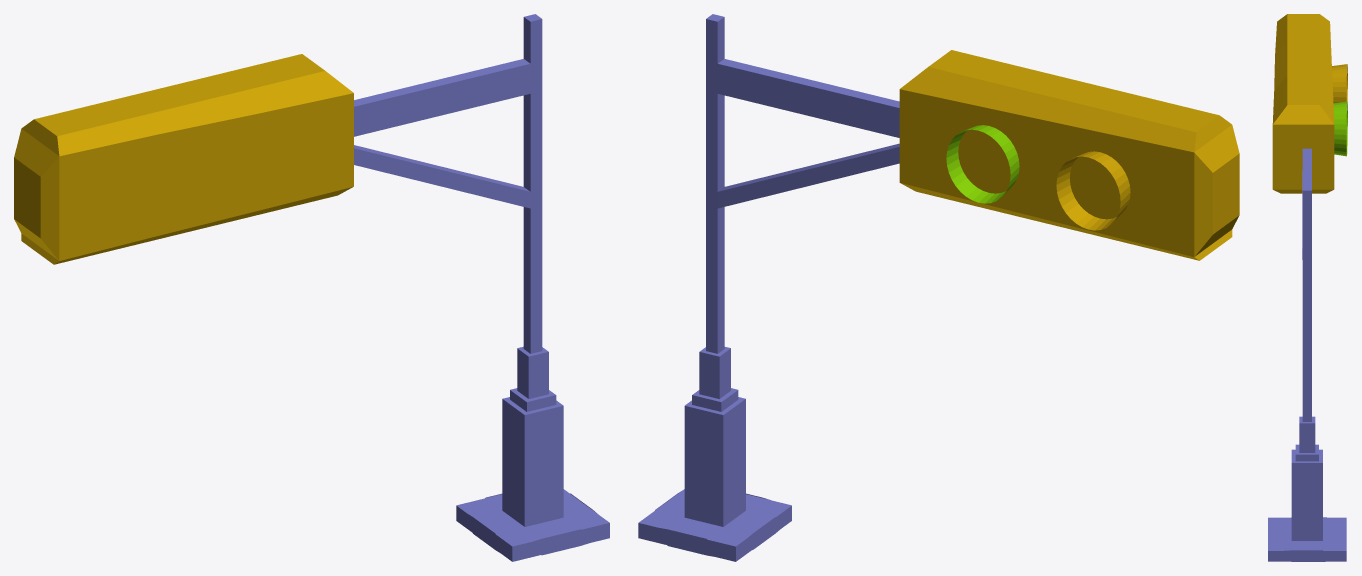
The model's file is semaforo.obj.
3 views of the same model, side by side, from view 1: azimuth 30°, elevation 25°; view 2: azimuth 150°, elevation 25°; view 3: azimuth 270°, elevation 25° (orthographic). The views are drawn at different scales.
Parts seen in each view (by area): view 1: Cube.001, Cube; view 2: Cube.001, Cube, Luz_verde_Cube.003, Luz_roja_Cube.004; view 3: Cube.001, Cube, Luz_roja_Cube.004, Luz_verde_Cube.003.
Part boxes in pixels (x1=…): Cube.001: x1=14, y1=54, x2=353, y2=264; Cube: x1=354, y1=14, x2=609, y2=561; Cube.001: x1=899, y1=50, x2=1239, y2=260; Cube: x1=638, y1=14, x2=899, y2=561; Luz_verde_Cube.003: x1=1056, y1=151, x2=1130, y2=230; Luz_roja_Cube.004: x1=946, y1=125, x2=1019, y2=203; Cube.001: x1=1272, y1=14, x2=1334, y2=193; Cube: x1=1268, y1=148, x2=1346, y2=561; Luz_roja_Cube.004: x1=1333, y1=101, x2=1347, y2=156; Luz_verde_Cube.003: x1=1332, y1=64, x2=1347, y2=103.
Size of what is drawn, in the model's own units: 2.73 by 2.46 by 0.4867.
